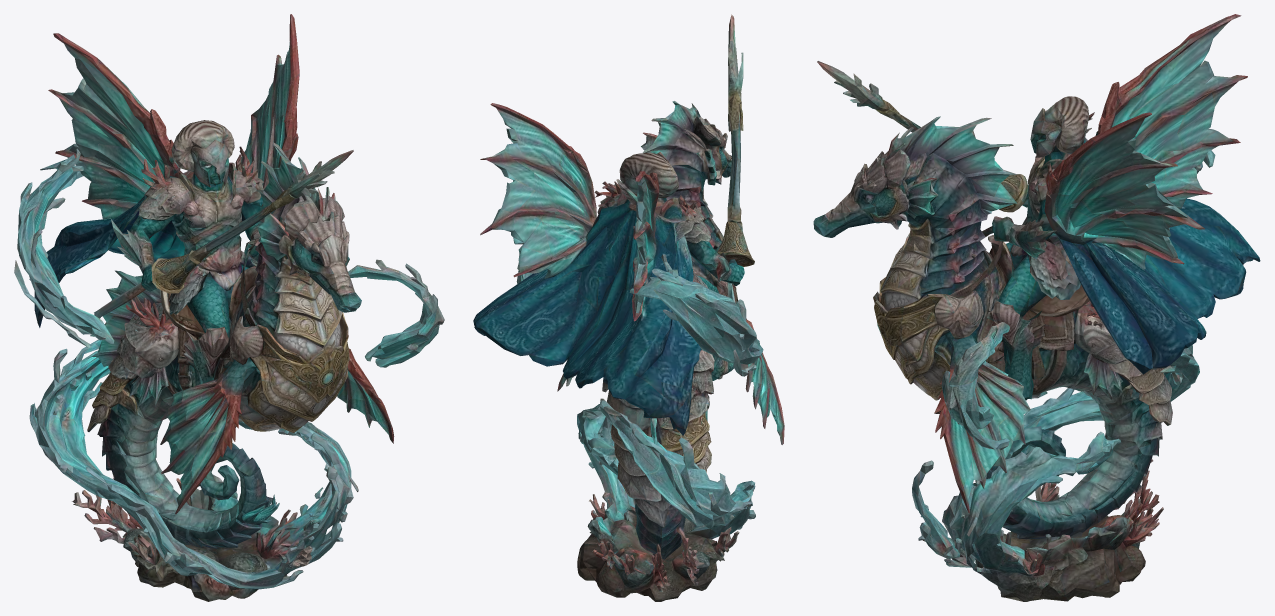
Rendered from model.opt.c.glb.
3 views of the same model, side by side, from view 1: azimuth 30°, elevation 25°; view 2: azimuth 150°, elevation 25°; view 3: azimuth 270°, elevation 25° (orthographic). The views are drawn at different scales.
Parts seen in each view (by area): view 1: Mesh_0; view 2: Mesh_0; view 3: Mesh_0.
Boxes of the visible parts, x1=… form: Mesh_0: x1=14, y1=14, x2=444, y2=601; Mesh_0: x1=473, y1=14, x2=784, y2=601; Mesh_0: x1=813, y1=14, x2=1260, y2=601.
Size of the model in its own units: 1.33 by 1.9 by 1.46.
Materials: 1 (1 with a texture image).
